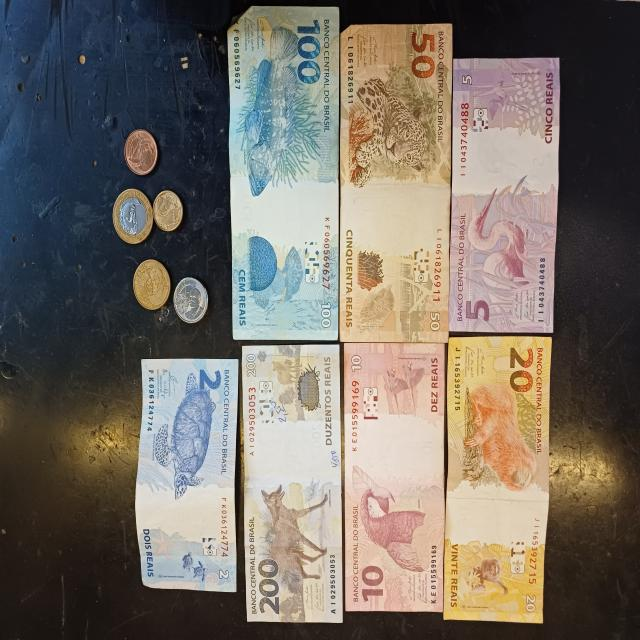1 real: (112, 187, 154, 246)
25 cents: (133, 257, 171, 311)
50 cents: (173, 276, 209, 326)
